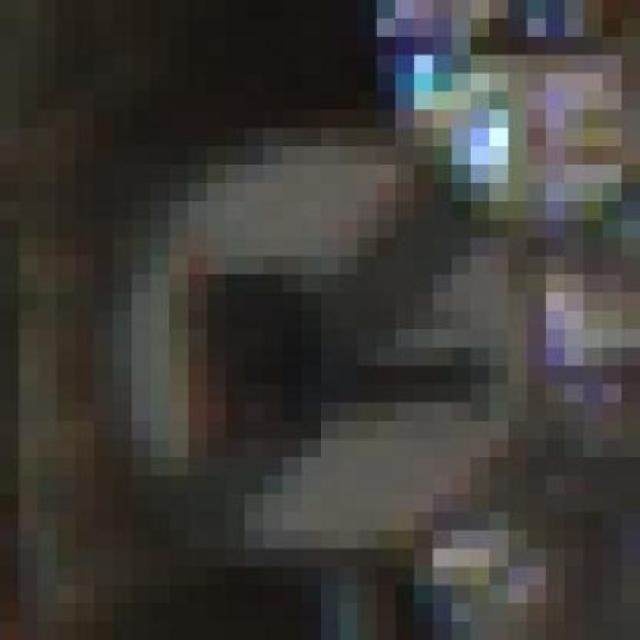Overtaking by trucks is prohibited: (76, 73, 564, 604)
